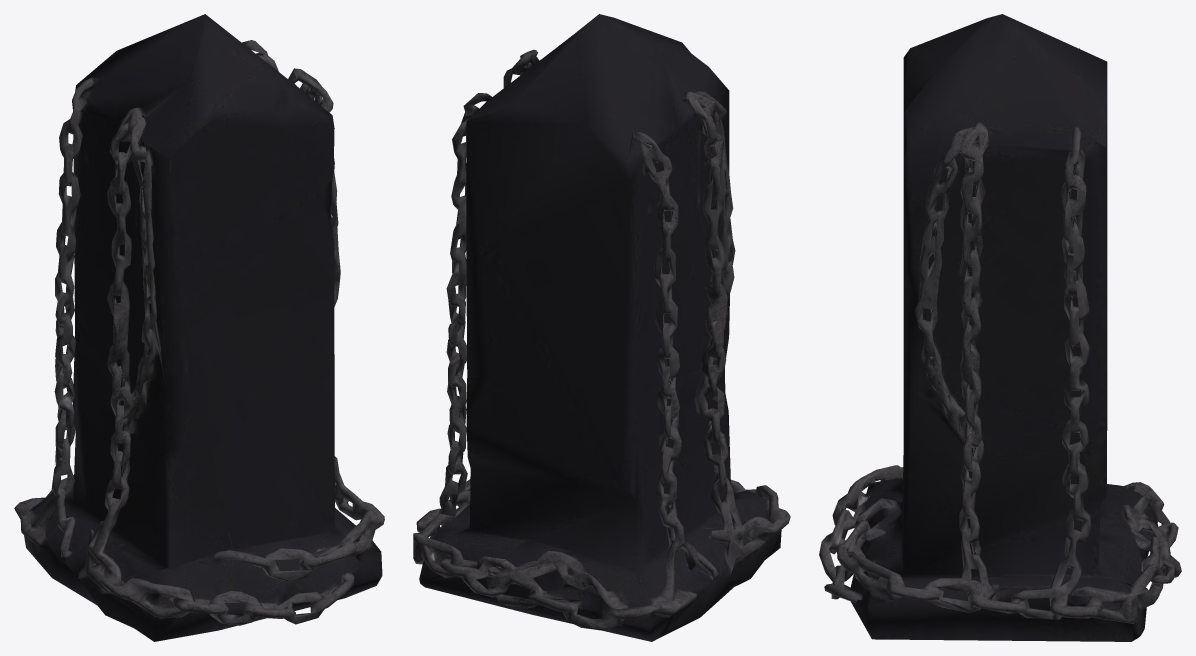
Rendered from monolith.glb.
The picture shows the model from 3 angles, left to right: view 1: azimuth 30°, elevation 25°; view 2: azimuth 150°, elevation 25°; view 3: azimuth 270°, elevation 25°; orthographic projection. The views are drawn at different scales.
Visible parts, largest first — view 1: Mesh_0; view 2: Mesh_0; view 3: Mesh_0.
Boxes of the visible parts, x1=… form: Mesh_0: x1=14, y1=14, x2=384, y2=641; Mesh_0: x1=413, y1=14, x2=790, y2=641; Mesh_0: x1=819, y1=14, x2=1181, y2=641.
Bounding box in the file's own units: 1.01 × 1.9 × 1.09.
Materials: 1 (1 with a texture image).
